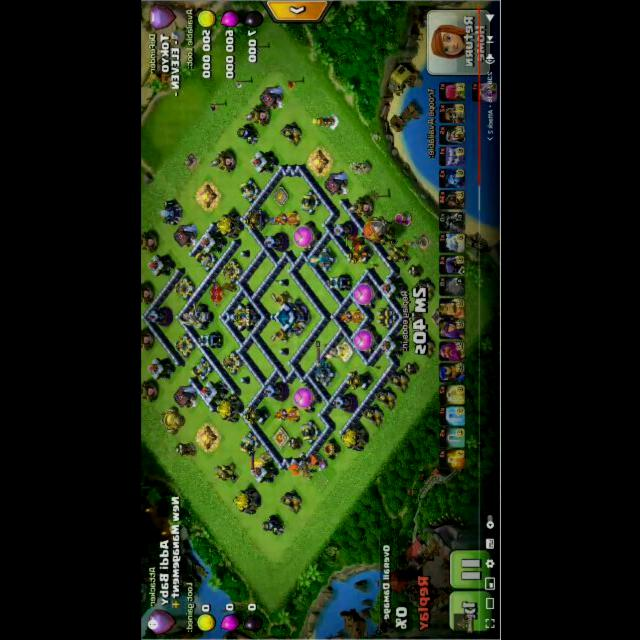AD: (240, 209, 269, 229), (344, 244, 373, 264), (344, 371, 373, 390), (240, 406, 268, 425)
AirSweeper: (267, 290, 291, 308), (267, 327, 291, 344)
BombTower: (324, 275, 351, 292), (196, 332, 221, 349)
Canon: (374, 304, 397, 330), (188, 357, 211, 382), (237, 430, 259, 456), (193, 248, 216, 272), (237, 178, 259, 203), (297, 420, 319, 445), (297, 190, 319, 215)
ClanCastle: (226, 302, 258, 332)
Eagle: (178, 303, 211, 330)
Inferno: (273, 211, 299, 227), (273, 406, 299, 422), (338, 309, 364, 325)
KingPad: (271, 427, 288, 450)
Mortar: (260, 514, 284, 536), (235, 123, 258, 145)
QueenPad: (207, 282, 224, 307)
RcPad: (271, 187, 286, 205)
Scattershot: (305, 247, 335, 271), (312, 358, 336, 386)
TH13: (269, 301, 309, 333)
WardenPad: (337, 341, 352, 361)
WizzTower: (330, 392, 357, 412), (145, 307, 171, 327), (332, 221, 357, 241), (262, 233, 288, 252), (262, 382, 288, 401)
Xbow: (219, 258, 241, 283), (171, 276, 193, 301), (171, 333, 193, 358), (219, 350, 241, 374)
